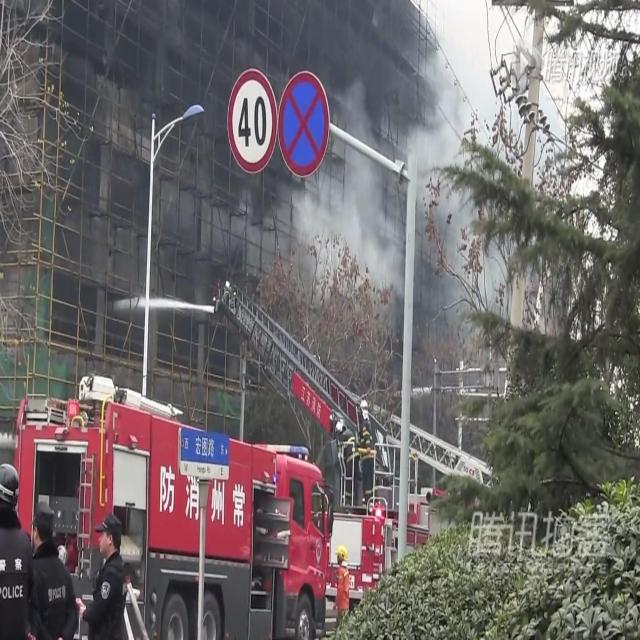Smoke: (212, 35, 520, 385)
